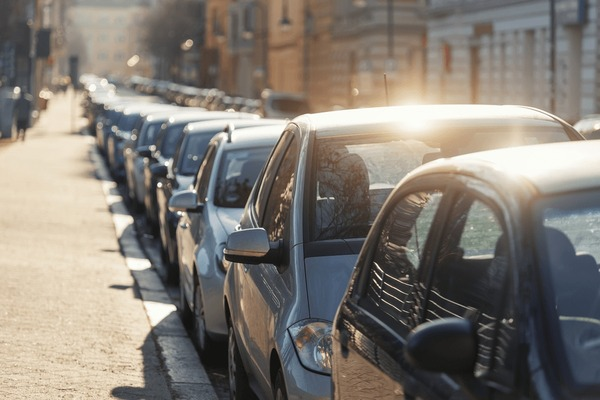Car: (210, 100, 599, 387)
